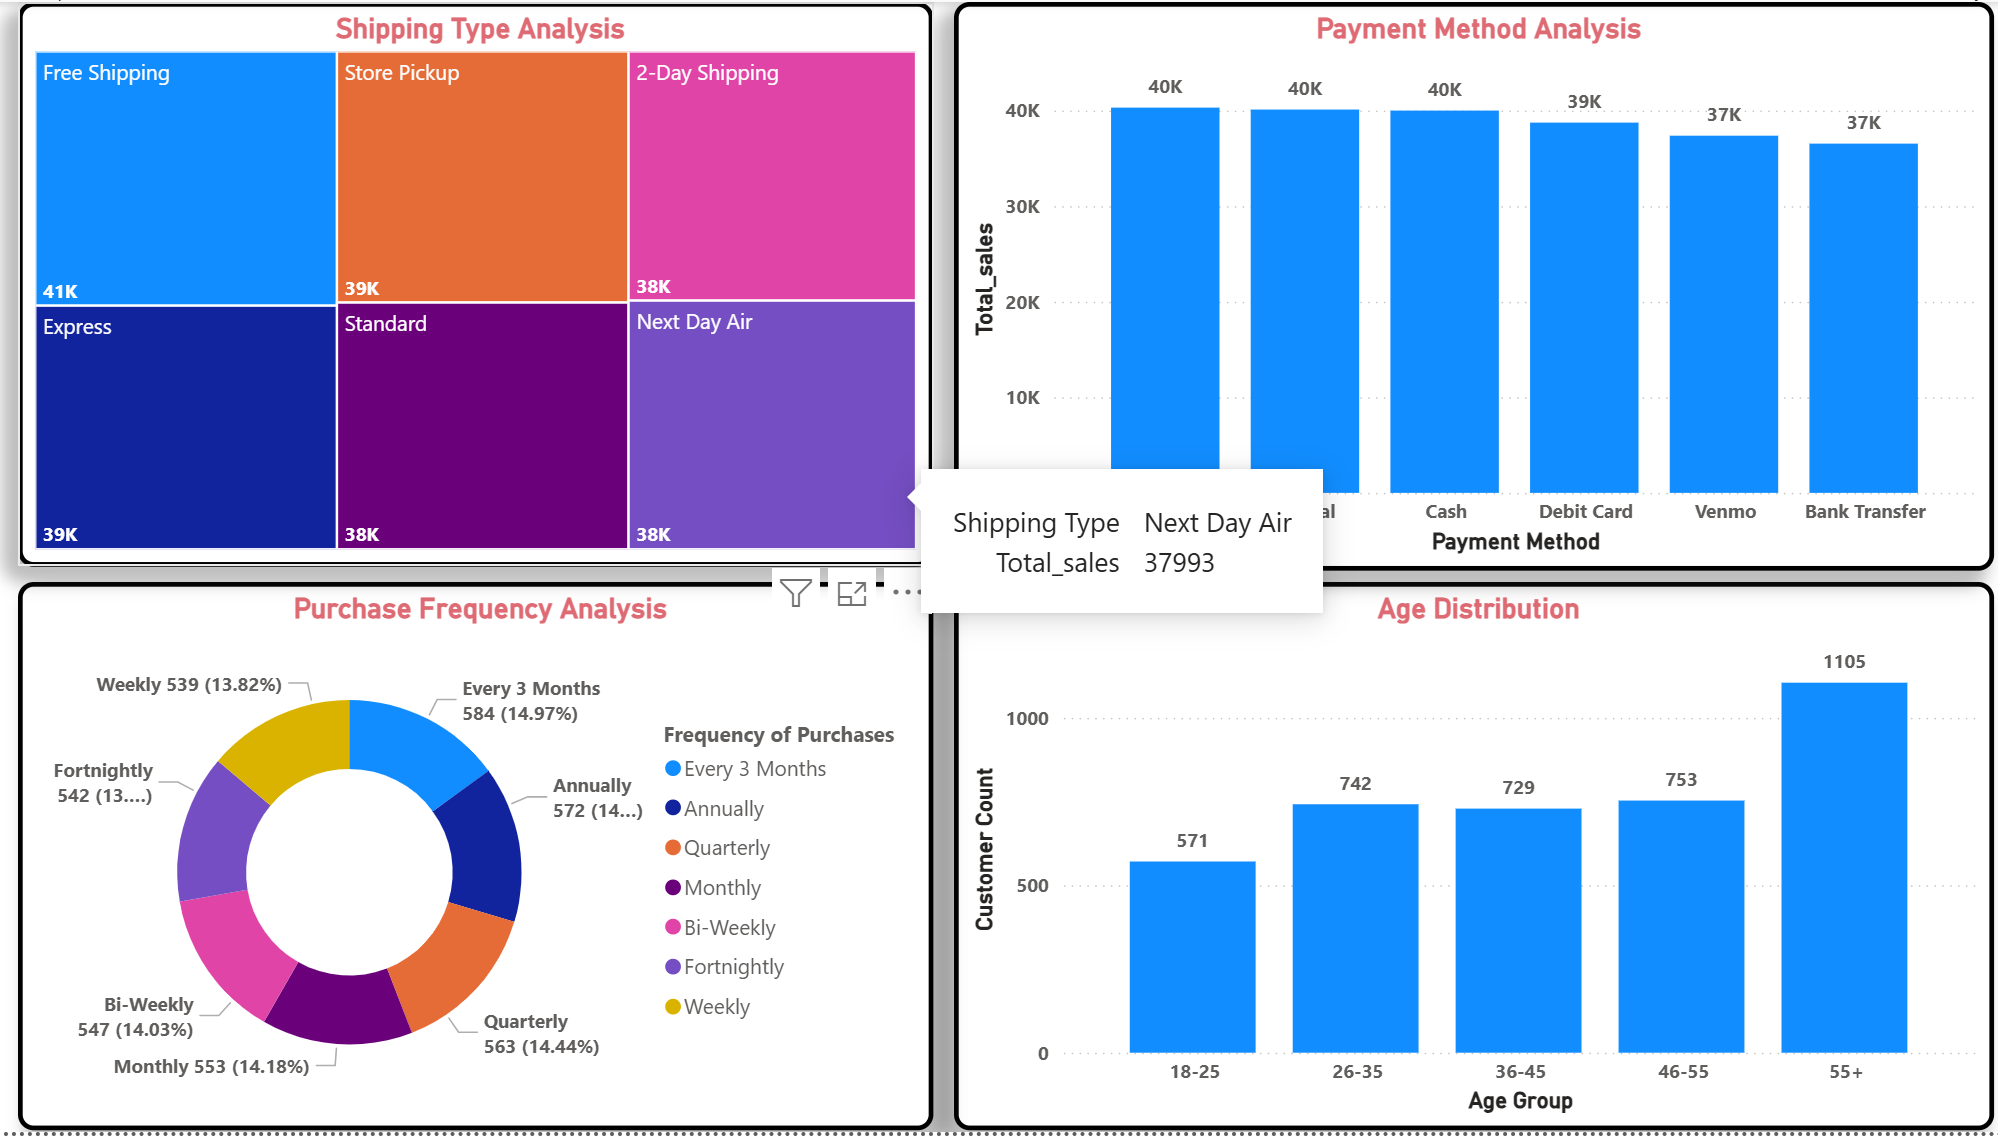

The dashboard page shown, as its layout file describes it:
{"tool":"powerbi","page":{"name":"Customer behavior page","canvas":[1280,720],"ordinal":1},"visuals":[{"type":"clusteredColumnChart","title":"Age Distribution","fields":{"Y":["customer_shopping_behavior.Customer Count"],"Category":["customer_shopping_behavior.Age Group"]},"box":[607.9,370.1,663.1,349.6],"z":0},{"type":"donutChart","title":"Purchase Frequency Analysis","fields":{"Category":["customer_shopping_behavior.Frequency of Purchases"],"Y":["CountNonNull(customer_shopping_behavior.Customer ID)"]},"box":[11.6,370.1,583.5,349.6],"z":1000},{"type":"clusteredColumnChart","title":"Payment Method Analysis","fields":{"Category":["customer_shopping_behavior.Payment Method"],"Y":["customer_shopping_behavior.Total_sales"]},"box":[607.9,0,663.1,362.4],"z":2000},{"type":"treemap","title":"Shipping Type Analysis","fields":{"Group":["customer_shopping_behavior.Shipping Type"],"Values":["customer_shopping_behavior.Total_sales"]},"box":[11.6,0,583.5,359.8],"z":3000}]}

Visuals, with their boxes in screenshot pixels (x1, y1, x2, y2), scaled from the page's 1280x720 canvas onto the 1998x1136 screenshot:
"Age Distribution" clusteredColumnChart: bbox(949, 584, 1984, 1135)
"Purchase Frequency Analysis" donutChart: bbox(18, 584, 929, 1135)
"Payment Method Analysis" clusteredColumnChart: bbox(949, 0, 1984, 572)
"Shipping Type Analysis" treemap: bbox(18, 0, 929, 568)
